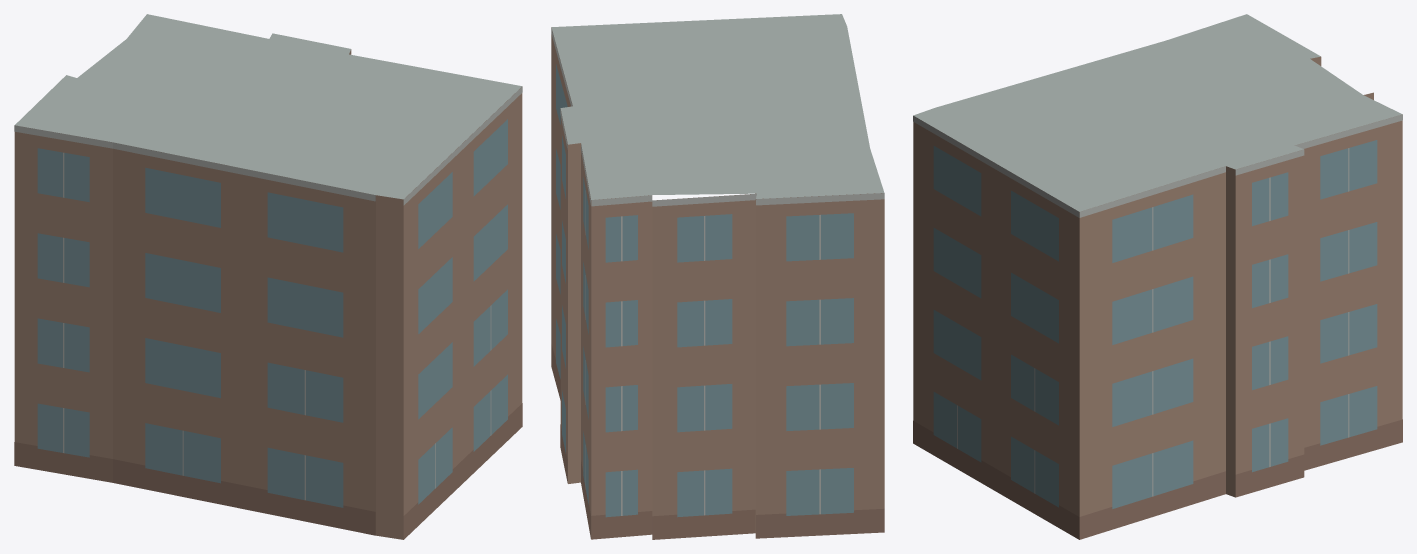
The model's file is survey-upis-32733443.glb.
3 renders of one model, left to right at view 1: azimuth 30°, elevation 25°; view 2: azimuth 150°, elevation 25°; view 3: azimuth 270°, elevation 25°, orthographic. The views are drawn at different scales.
Visible parts, largest first — view 1: survey-upis-32733443.tmp; view 2: survey-upis-32733443.tmp; view 3: survey-upis-32733443.tmp.
Boxes of the visible parts, <box> form: survey-upis-32733443.tmp: <box>14,14,522,539</box>; survey-upis-32733443.tmp: <box>551,14,884,539</box>; survey-upis-32733443.tmp: <box>913,14,1402,539</box>.
Bounding box in the file's own units: 16.83 × 13 × 17.59.
